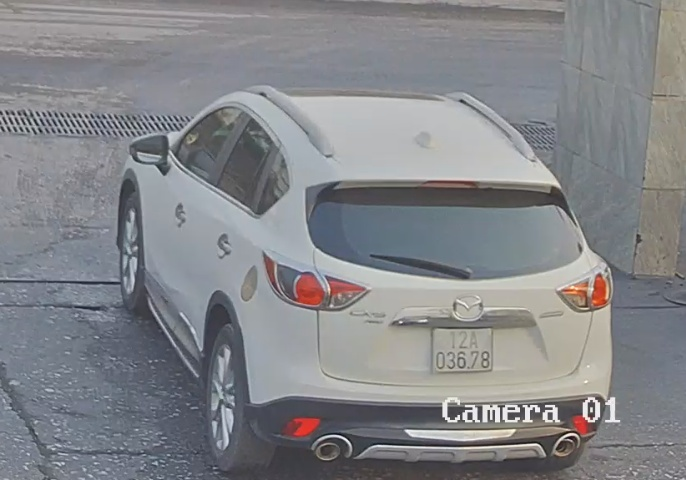vehicle plate: (427, 315, 497, 375)
